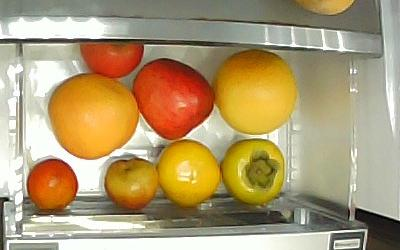apple: (132, 57, 216, 141), (80, 43, 145, 78)
grapefruit: (48, 73, 139, 160), (212, 49, 298, 136)
persimmon: (156, 139, 221, 208), (221, 138, 285, 206)
prune: (27, 158, 79, 212), (104, 157, 159, 207)
